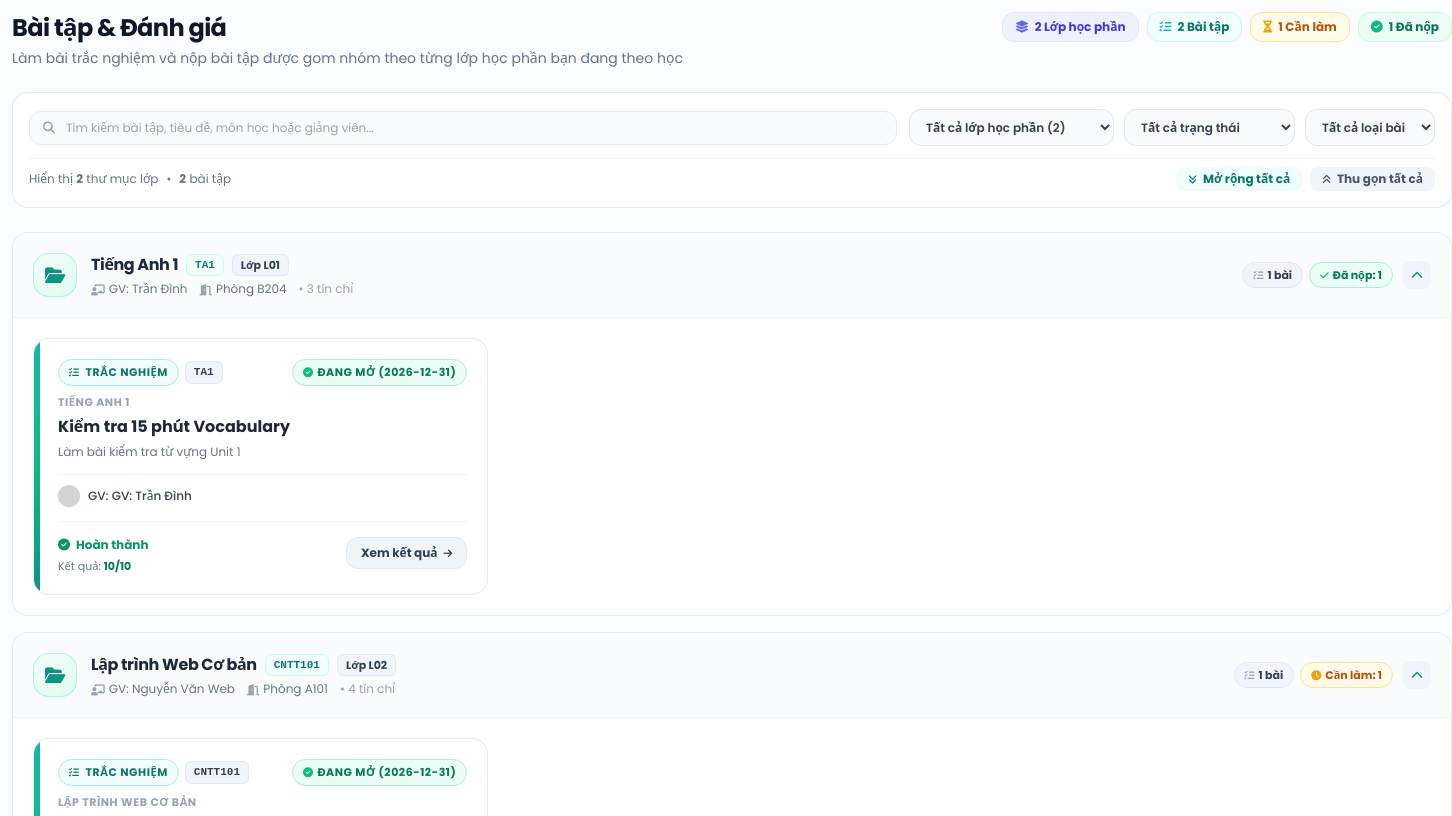
Scenario: StudentAssignmentList (Grouped by Class) › filters assignments by status (pending vs completed)
The image size is (1452, 816).
Expected: the heading "Kiểm tra 15 phút Vocabulary" is shown, [58,415,290,438]
// Status select is the second select
Select "Cần làm (chưa nộp)" in the 2nd dropdown at (1210, 128), box [1124,109,1295,146]
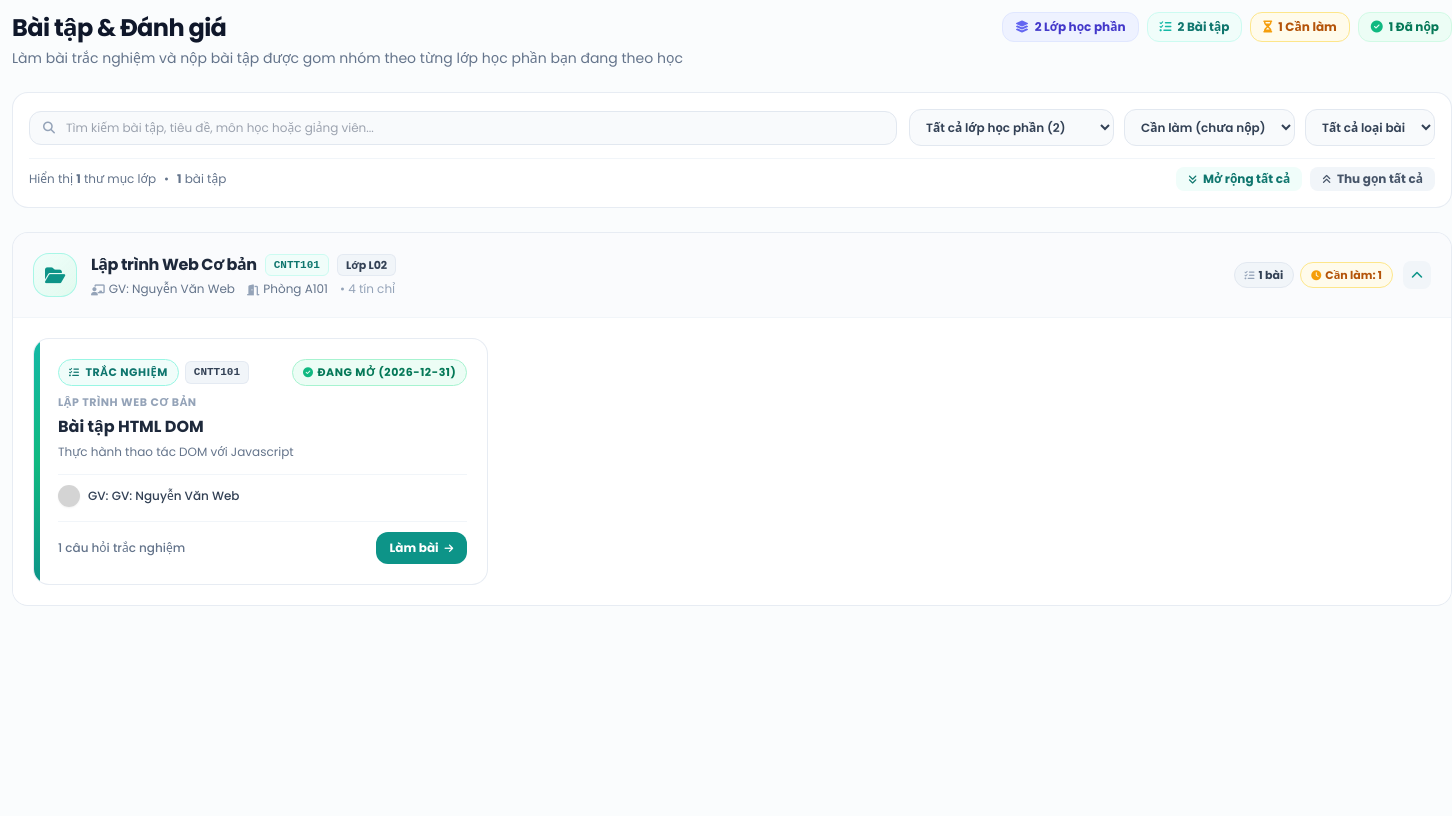
Expected: the heading "Bài tập HTML DOM" is shown, [58,415,204,438]
Expected: the heading "Kiểm tra 15 phút Vocabulary" is gone
